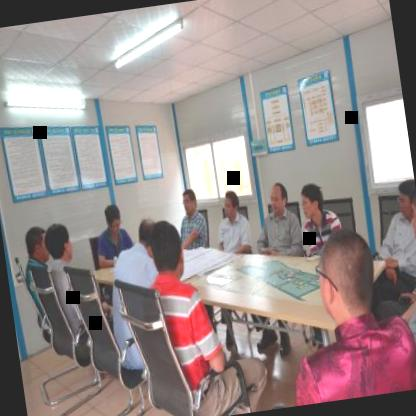head: (304, 226, 379, 330), (144, 216, 186, 282), (295, 178, 332, 226), (41, 217, 75, 268), (131, 209, 159, 260), (21, 220, 51, 264), (388, 175, 416, 219), (266, 176, 291, 215), (100, 201, 124, 238), (178, 184, 202, 216), (221, 186, 242, 219), (405, 198, 416, 251)
